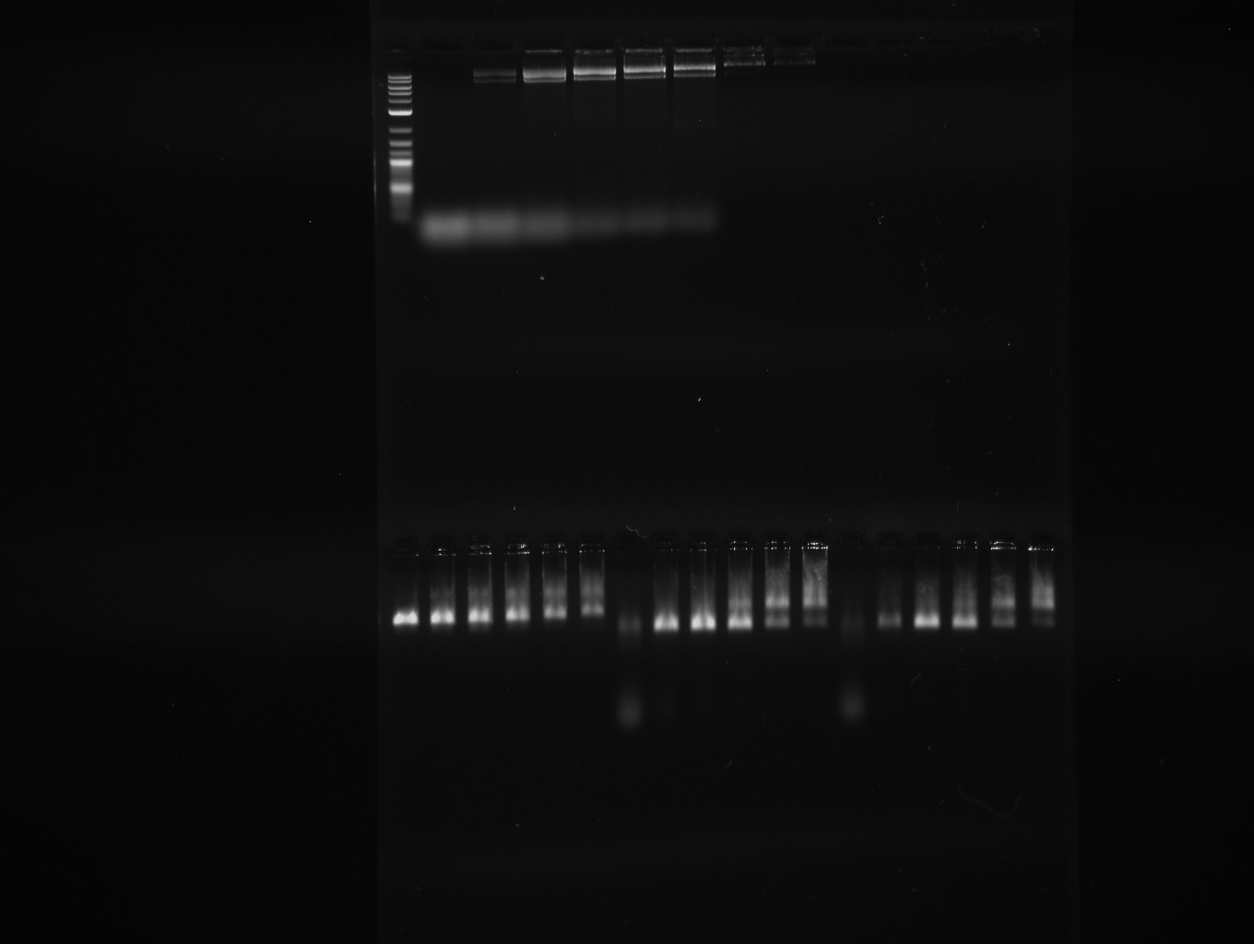Lane: (675, 39, 722, 272), (523, 30, 567, 265), (626, 37, 670, 265), (574, 37, 619, 257), (477, 30, 518, 251), (731, 35, 769, 260), (424, 37, 458, 254), (384, 52, 417, 257)
